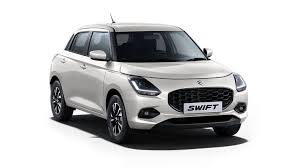Swift: (52, 16, 249, 143)
